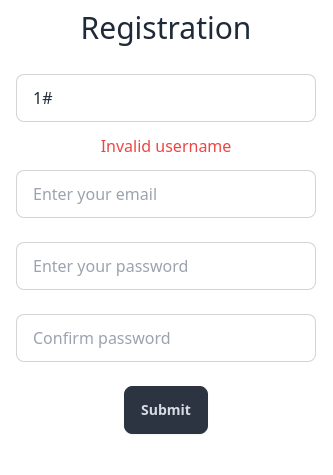
it: Check if the input value satisfies the registration validation schema › checks if email value is invalid
Type "mern.email.com" into the field with id "email" at (166, 194), box left=16, top=170, right=316, bottom=218
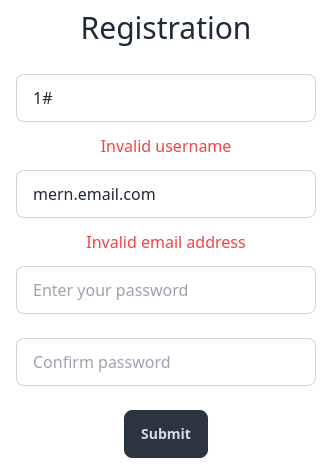
expect the text with id "email-validation-error" reads "Invalid email address": met, box left=86, top=231, right=246, bottom=253
